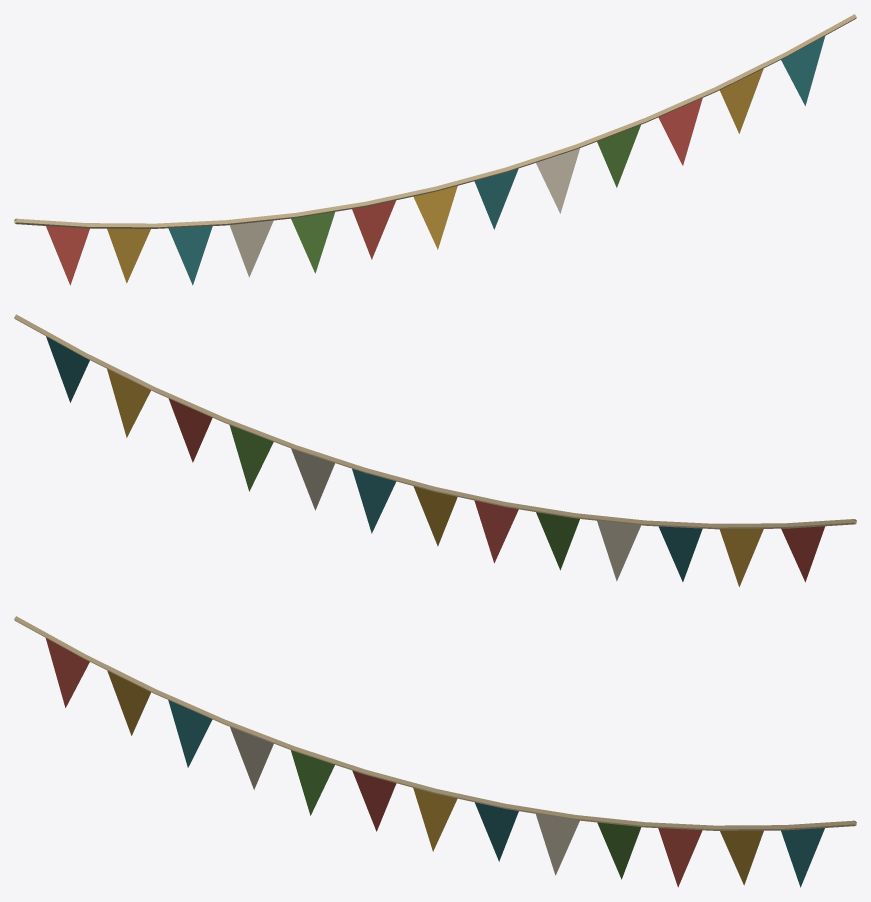
Rendered from bunting-string.glb.
3 renders of one model, top to bottom at view 1: azimuth 30°, elevation 25°; view 2: azimuth 150°, elevation 25°; view 3: azimuth 330°, elevation 25°, orthographic.
Visible parts, largest first — view 1: bunting-string; view 2: bunting-string; view 3: bunting-string.
Part boxes in pixels (x1,y1,x2,y2): bunting-string: [14, 14, 856, 285]; bunting-string: [14, 314, 856, 586]; bunting-string: [14, 616, 856, 887].
Bounding box in the file's own units: 4.01 × 0.6005 × 0.04.
